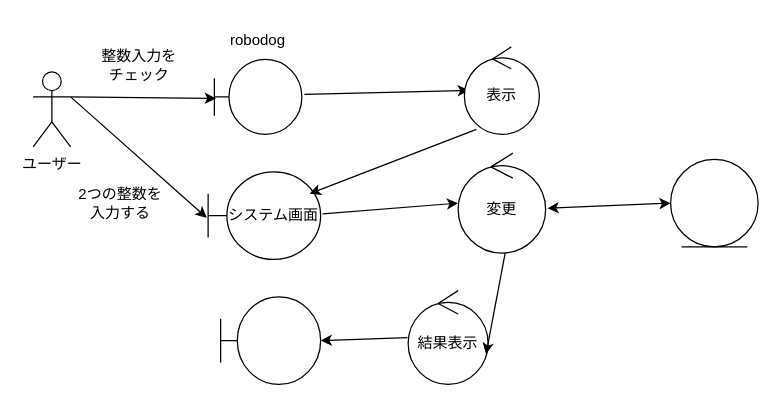
The diagram is 780 pixels wide and 406 high, and some of its shapes have lost their labels. Each missing label, with the centre of its shape:
"オブジェクト" goes at (713,202).
"結果画面" goes at (270,340).
